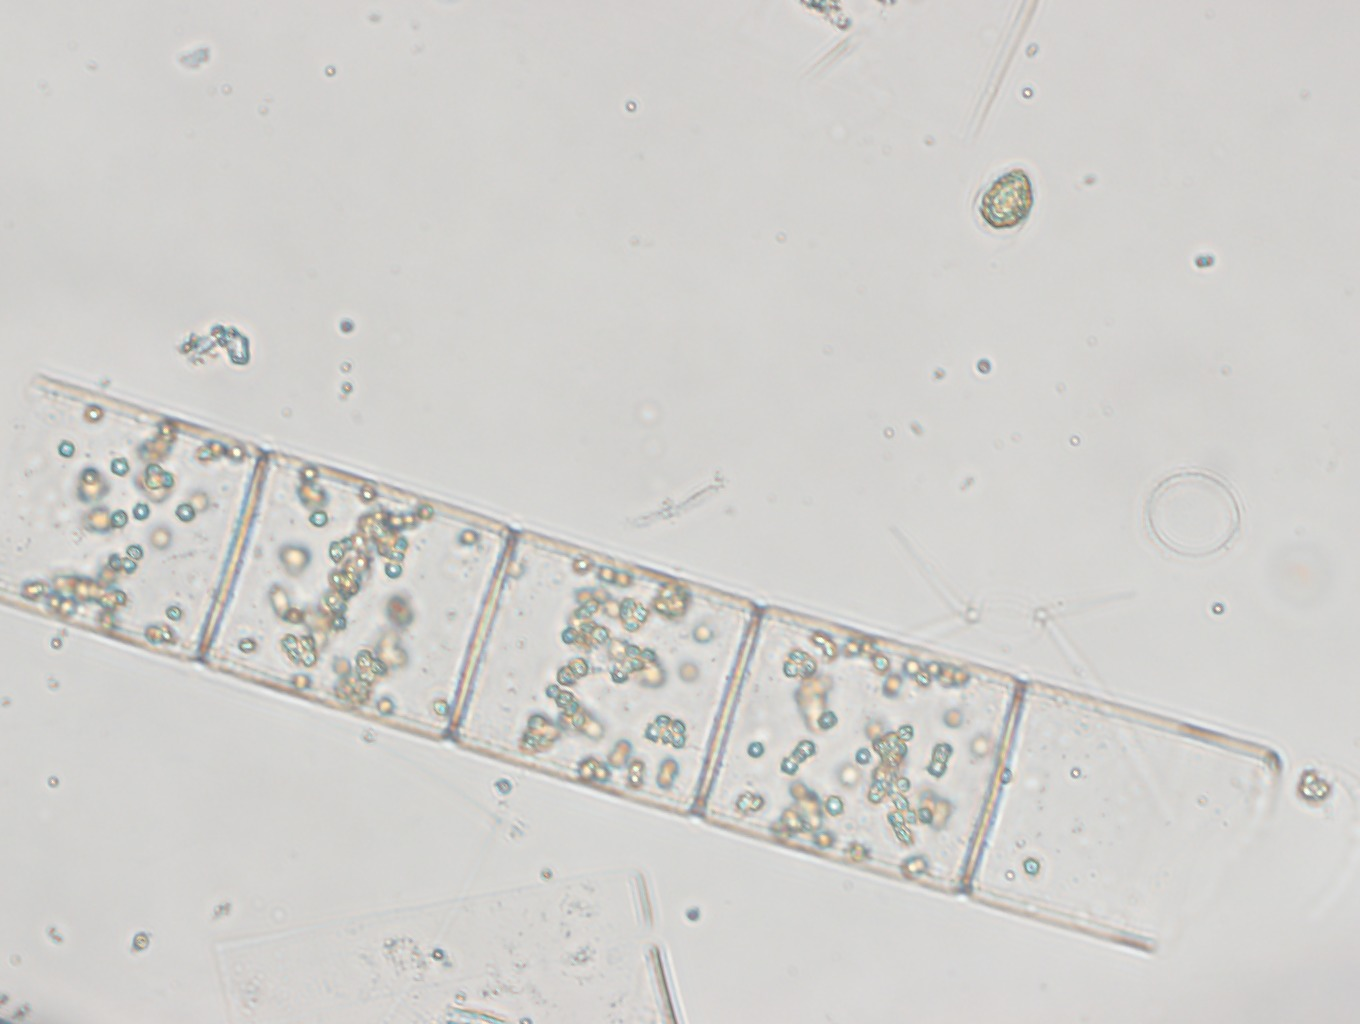guinardia flaccida: (1, 369, 1284, 956)
